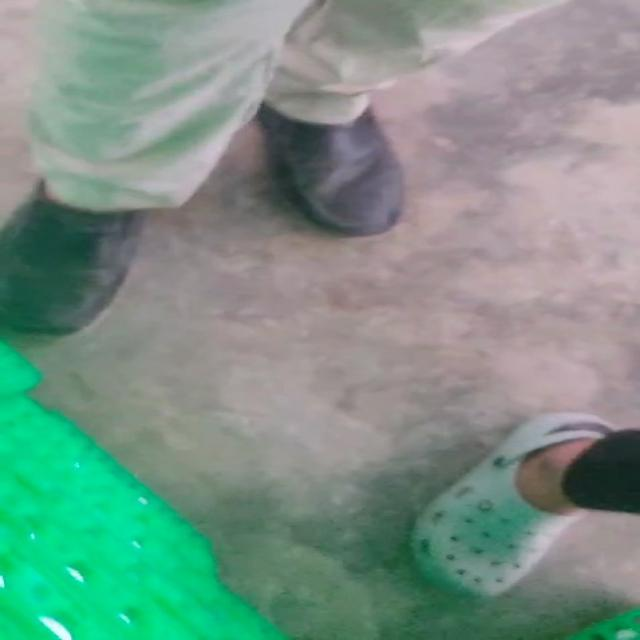egg_tray: (0, 398, 221, 639), (34, 636, 36, 636)
